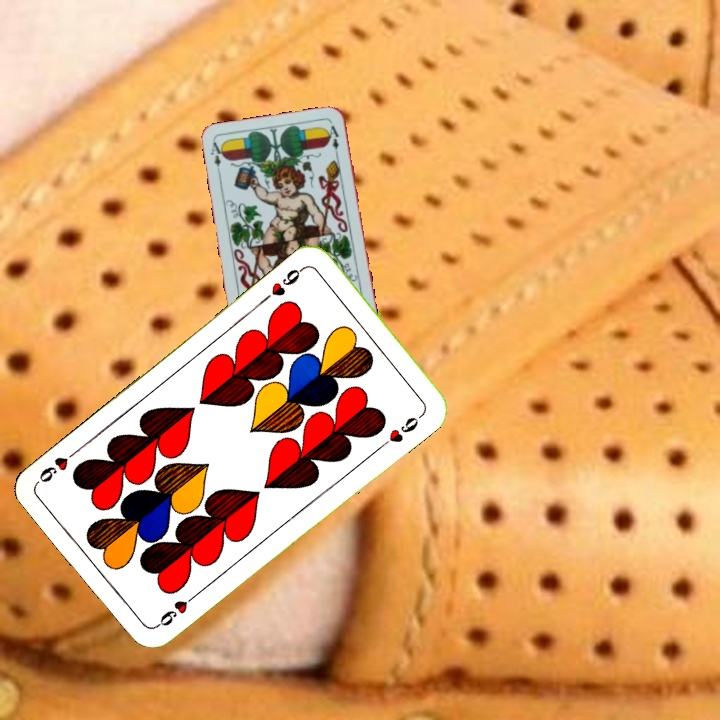EA: (207, 138, 227, 178)
H9: (260, 261, 310, 303), (152, 588, 202, 630)
